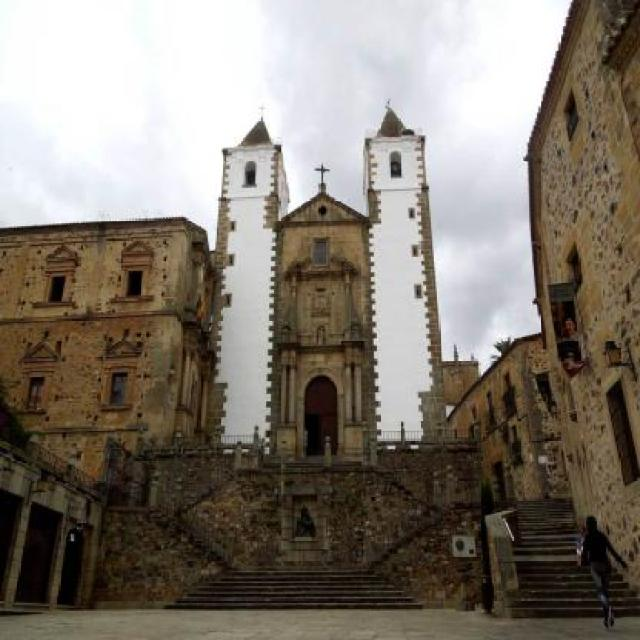stair: (492, 494, 640, 621), (163, 563, 425, 617), (366, 503, 454, 566), (150, 508, 238, 569)
